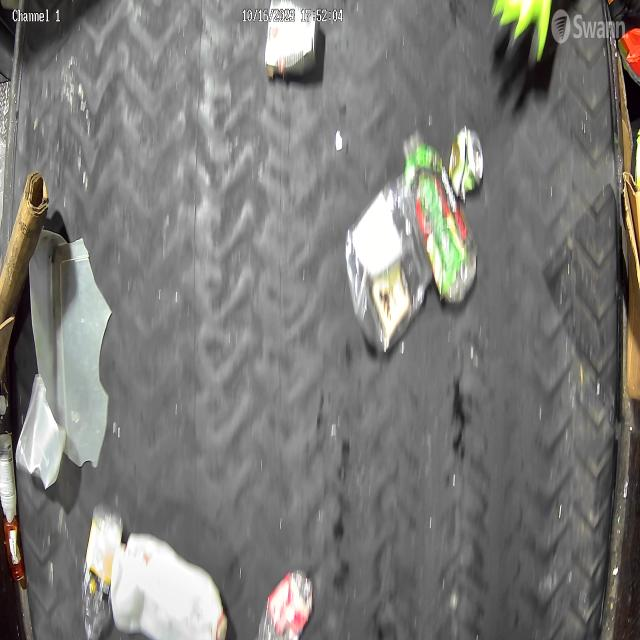can: (265, 0, 321, 80), (449, 126, 484, 204)
milk_jug: (111, 533, 228, 640)
plastic_bottle: (83, 502, 124, 640), (257, 569, 314, 640)
